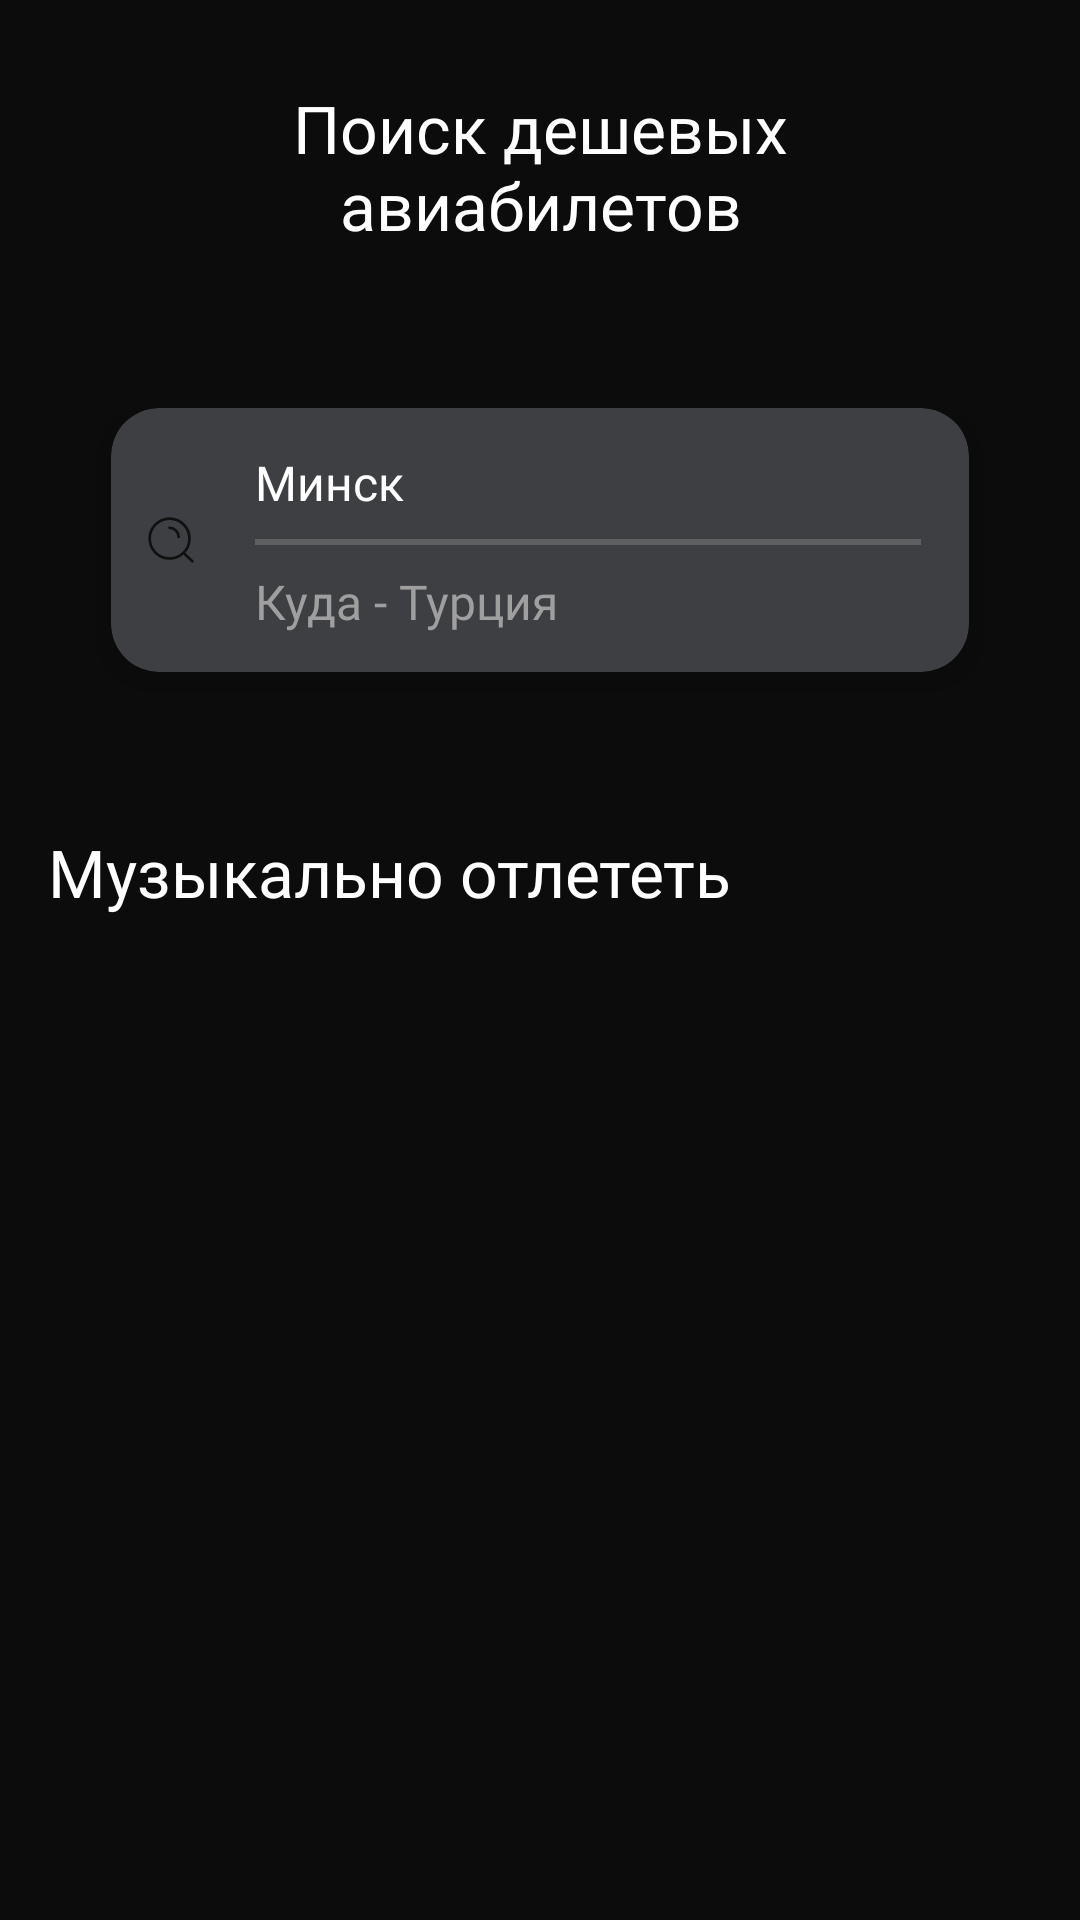

Screen size 1080×1920. Icon name, then its center in pixels as [x,y]:
search: [171,540]
